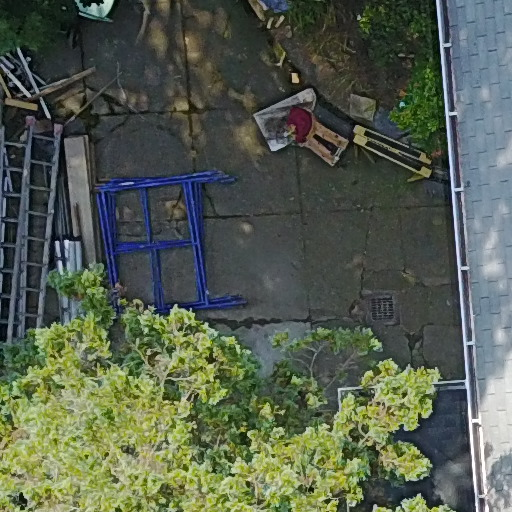clutter: (1, 55, 131, 388)
